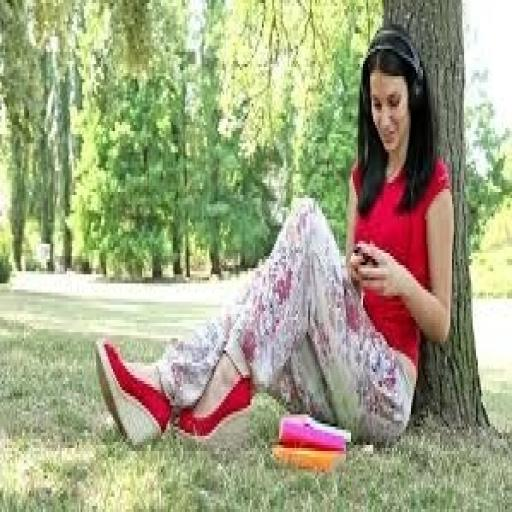listening_to_music: (93, 24, 457, 454)
